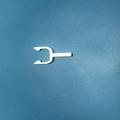u-shape: (31, 44, 72, 67)
